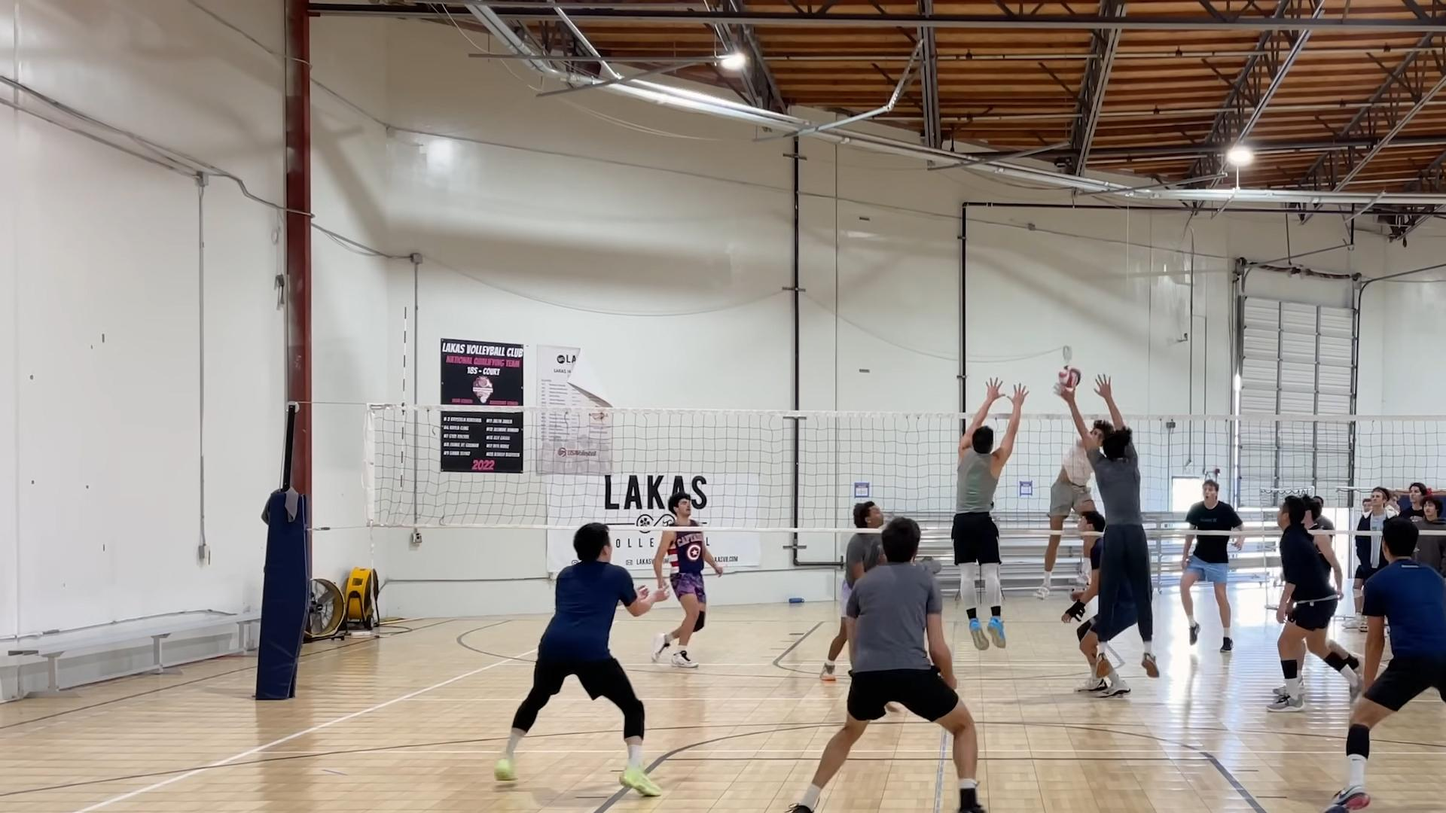Attack: (1034, 413, 1107, 584)
Block: (1056, 378, 1163, 679), (952, 377, 1029, 650)
Player: (790, 517, 984, 812), (494, 524, 667, 796), (1326, 519, 1445, 812), (1268, 496, 1361, 711), (651, 492, 723, 668), (1180, 480, 1242, 652), (820, 533, 882, 681), (1076, 585, 1136, 696), (1306, 495, 1343, 596)
ball: (1057, 366, 1083, 390)
